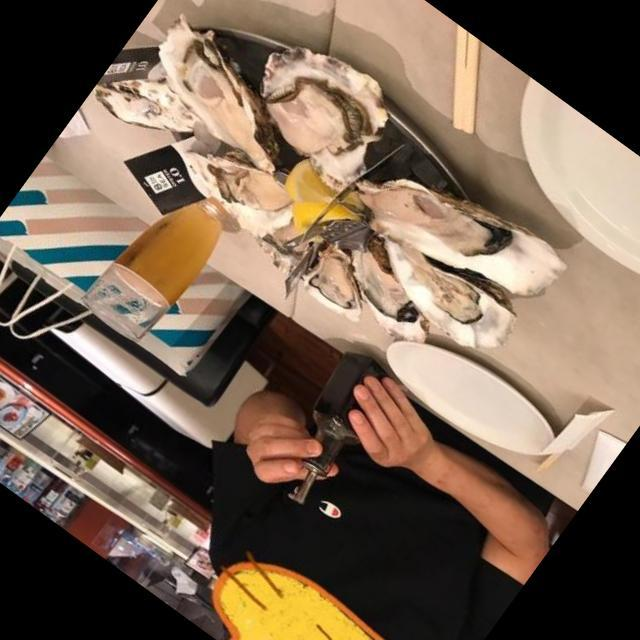Oyster-Open: (342, 132, 574, 337), (128, 2, 328, 182), (224, 16, 410, 196), (350, 210, 529, 368), (169, 120, 308, 248), (320, 228, 458, 356), (290, 226, 392, 326), (248, 196, 334, 286)
